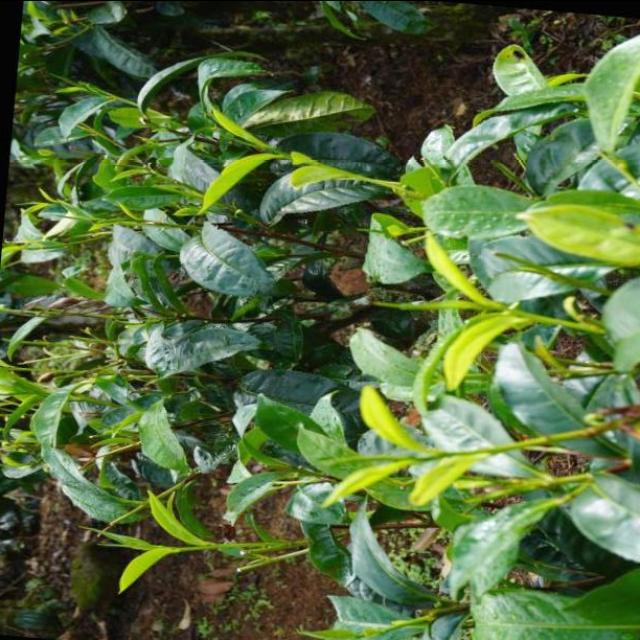Stem: (529, 314, 537, 319), (416, 457, 422, 461), (178, 547, 184, 550)
